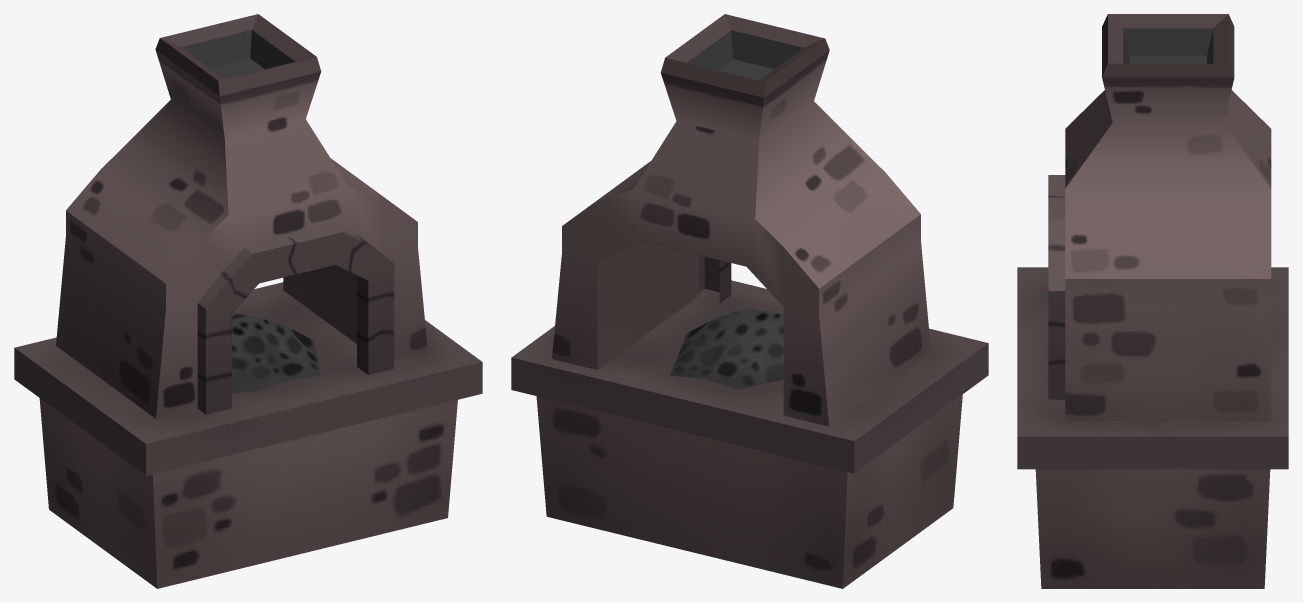
Rendered from furnace_mesh.fbx.
3 views of the same model, side by side, from view 1: azimuth 30°, elevation 25°; view 2: azimuth 150°, elevation 25°; view 3: azimuth 270°, elevation 25° (orthographic). The views are drawn at different scales.
Visible parts, largest first — view 1: furnace; view 2: furnace; view 3: furnace.
Part boxes in pixels (<box>): furnace: <box>14,14,482,588</box>; furnace: <box>511,14,988,588</box>; furnace: <box>1017,14,1288,588</box>.
Size of the model in its own units: 122 by 160 by 82.64.
